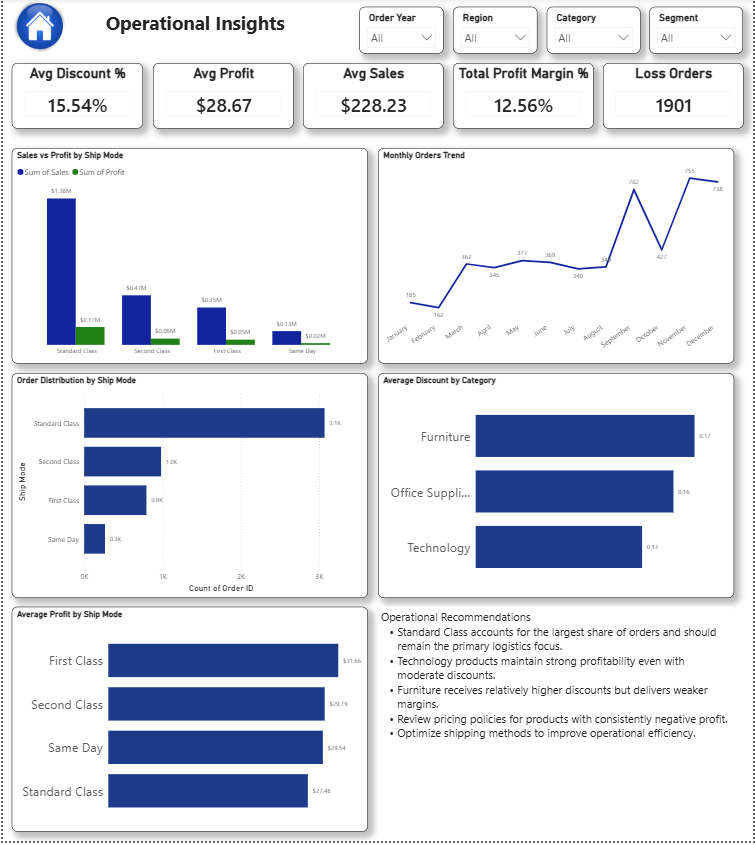

The dashboard page shown, as its layout file describes it:
{"tool":"powerbi","page":{"name":"Operational Insights","canvas":[1280,1440],"ordinal":4},"visuals":[{"type":"textbox","box":[128,16,400,64],"z":0},{"type":"image","box":[16,0,96,96],"z":1},{"type":"slicer","fields":{"Values":["samplesuperstore.Order Year"]},"box":[608,16,144,80],"z":2},{"type":"slicer","fields":{"Values":["samplesuperstore.Region"]},"box":[768,16,144,80],"z":3},{"type":"slicer","fields":{"Values":["samplesuperstore.Category"]},"box":[928,16,160,80],"z":4},{"type":"slicer","fields":{"Values":["samplesuperstore.Segment"]},"box":[1104,16,160,80],"z":5},{"type":"cardVisual","title":"Avg Discount %","fields":{"Data":["samplesuperstore.Avg Discount %"]},"box":[16,112,224,112],"z":6},{"type":"cardVisual","title":"Avg Profit","fields":{"Data":["Avg(samplesuperstore.Profit)"]},"box":[256,112,240,112],"z":7},{"type":"cardVisual","title":"Avg Sales","fields":{"Data":["Avg(samplesuperstore.Sales)"]},"box":[512,112,240,112],"z":8},{"type":"cardVisual","title":"Total Profit Margin %","fields":{"Data":["samplesuperstore.Profit Margin %"]},"box":[768,112,240,112],"z":9},{"type":"cardVisual","title":"Loss Orders","fields":{"Data":["samplesuperstore.Loss Orders"]},"box":[1024,112,240,112],"z":10},{"type":"clusteredColumnChart","title":"Sales vs Profit by Ship Mode","fields":{"Category":["samplesuperstore.Ship Mode"],"Y":["Sum(samplesuperstore.Sales)","Sum(samplesuperstore.Profit)"]},"box":[16,256,608,368],"z":11},{"type":"lineChart","title":"Monthly Orders Trend","fields":{"Category":["samplesuperstore.Order Date.Variation.Date Hierarchy.Month"],"Y":["Count(samplesuperstore.Order ID)"]},"box":[640,256,608,368],"z":12},{"type":"barChart","title":"Order Distribution by Ship Mode","fields":{"Category":["samplesuperstore.Ship Mode"],"Y":["Count(samplesuperstore.Order ID)"]},"box":[16,640,608,384],"z":13},{"type":"clusteredBarChart","title":"Average Discount by Category","fields":{"Category":["samplesuperstore.Category"],"Y":["Avg(samplesuperstore.Discount)"]},"box":[640,640,608,384],"z":14},{"type":"clusteredBarChart","title":"Average Profit by Ship Mode","fields":{"Category":["samplesuperstore.Ship Mode"],"Y":["Avg(samplesuperstore.Profit)"]},"box":[16,1040,608,384],"z":15},{"type":"textbox","box":[640,1040,608,384],"z":16}]}

Visuals, with their boxes in screenshot pixels (x1, y1, x2, y2), scaled from the page's 1280x1440 canvas onto the 755x845 screenshot:
textbox: Rect(76, 9, 311, 47)
image: Rect(9, 0, 66, 56)
slicer - samplesuperstore.Order Year: Rect(359, 9, 444, 56)
slicer - samplesuperstore.Region: Rect(453, 9, 538, 56)
slicer - samplesuperstore.Category: Rect(547, 9, 642, 56)
slicer - samplesuperstore.Segment: Rect(651, 9, 746, 56)
"Avg Discount %" cardVisual: Rect(9, 66, 142, 131)
"Avg Profit" cardVisual: Rect(151, 66, 293, 131)
"Avg Sales" cardVisual: Rect(302, 66, 444, 131)
"Total Profit Margin %" cardVisual: Rect(453, 66, 595, 131)
"Loss Orders" cardVisual: Rect(604, 66, 746, 131)
"Sales vs Profit by Ship Mode" clusteredColumnChart: Rect(9, 150, 368, 366)
"Monthly Orders Trend" lineChart: Rect(378, 150, 736, 366)
"Order Distribution by Ship Mode" barChart: Rect(9, 376, 368, 601)
"Average Discount by Category" clusteredBarChart: Rect(378, 376, 736, 601)
"Average Profit by Ship Mode" clusteredBarChart: Rect(9, 610, 368, 836)
textbox: Rect(378, 610, 736, 836)
